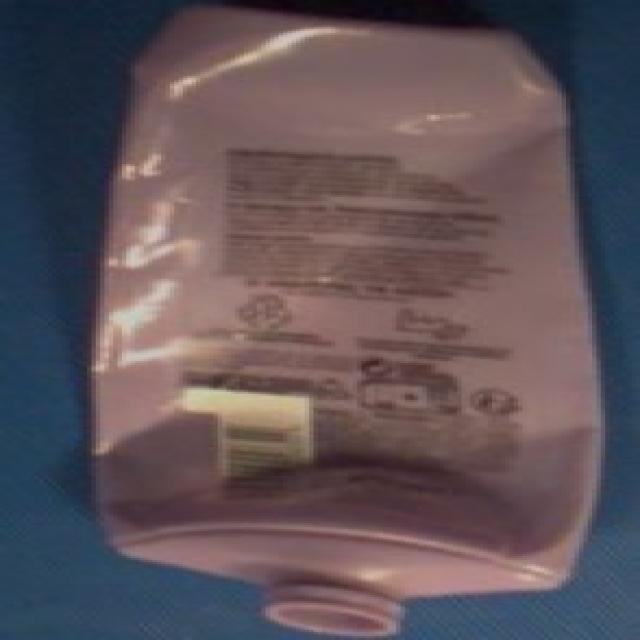HDPE Plastic: (83, 0, 610, 640)
